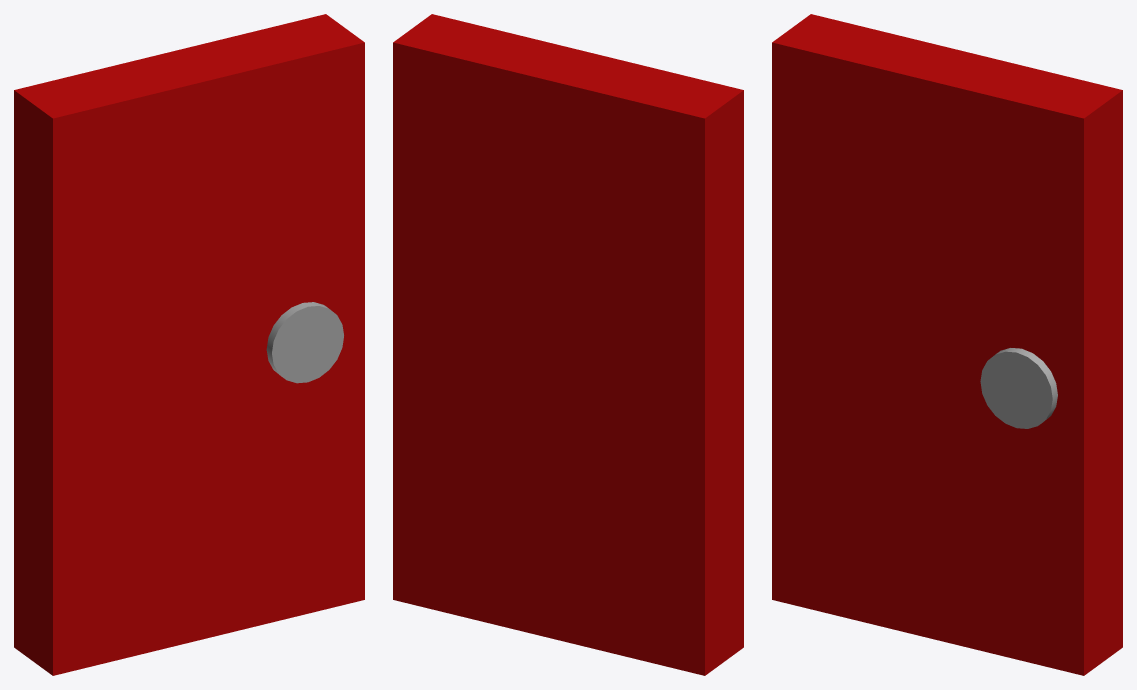
File: GoalFlagUp.fbx
3 views of the same model, side by side, from view 1: azimuth 30°, elevation 25°; view 2: azimuth 150°, elevation 25°; view 3: azimuth 330°, elevation 25° (orthographic).
Parts seen in each view (by area): view 1: pCube2; view 2: pCube2; view 3: pCube2.
Boxes of the visible parts, <box> form: pCube2: <box>14,14,364,675</box>; pCube2: <box>393,14,743,675</box>; pCube2: <box>772,14,1122,675</box>.
Size of the model in its own units: 1 by 1.71 by 0.2453.
